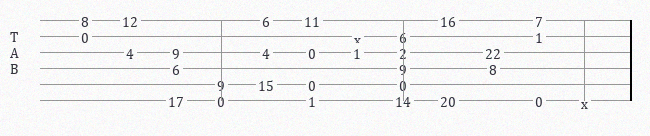0: (81, 29, 93, 43), (217, 93, 229, 107), (308, 77, 320, 91), (308, 45, 320, 59), (399, 77, 411, 91), (535, 93, 547, 107)
1: (308, 93, 320, 107), (353, 45, 365, 59), (535, 29, 547, 43)
11: (304, 13, 324, 27)
12: (122, 13, 142, 27)
14: (395, 93, 415, 107)
15: (258, 77, 278, 92)
16: (440, 13, 460, 27)
17: (168, 93, 188, 107)
2: (399, 45, 411, 59)
20: (440, 93, 460, 107)
22: (485, 45, 505, 59)
4: (126, 45, 138, 59), (262, 45, 274, 59)
6: (172, 61, 184, 75), (262, 13, 274, 27), (399, 29, 411, 43)
7: (535, 13, 547, 27)
8: (81, 13, 93, 27), (489, 61, 501, 75)
9: (172, 45, 184, 59), (217, 77, 229, 91), (399, 61, 411, 75)
x: (354, 31, 365, 42), (581, 95, 592, 106)
